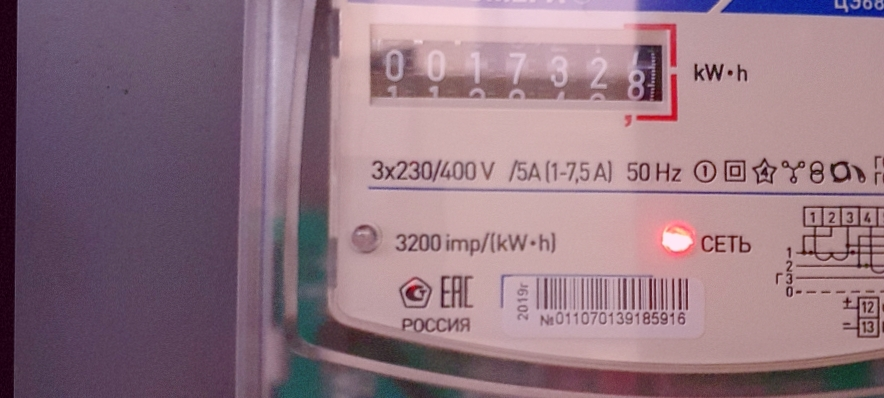0: (384, 46, 406, 83), (425, 48, 446, 82)
1: (468, 49, 483, 85)
2: (587, 55, 608, 91)
3: (547, 54, 570, 89)
7: (505, 49, 529, 87)
8: (625, 67, 645, 102)
screen: (359, 21, 682, 125)
